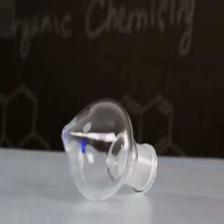Pear shaped flask: (47, 96, 174, 200)
